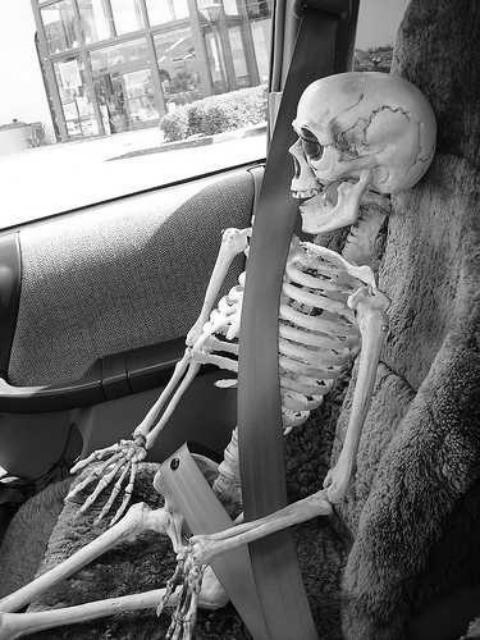Seatbelt: (158, 0, 354, 640)
